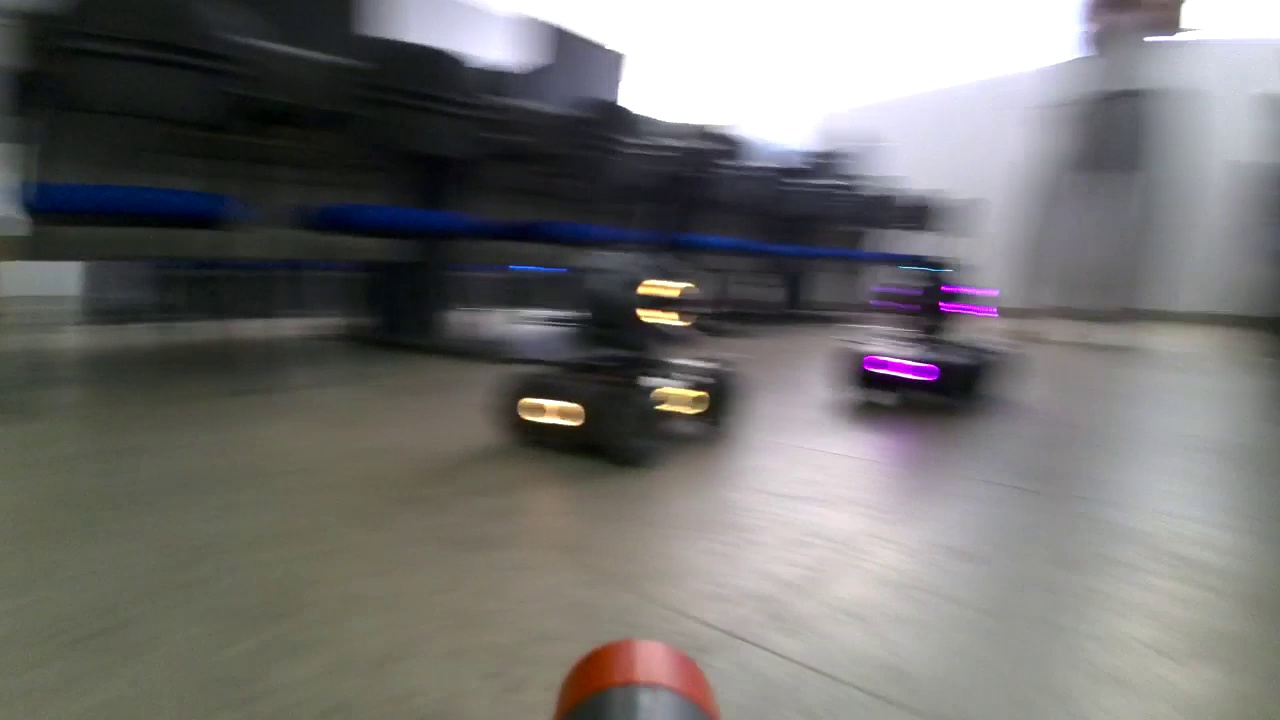robot: (501, 242, 741, 465), (834, 253, 1016, 415)
